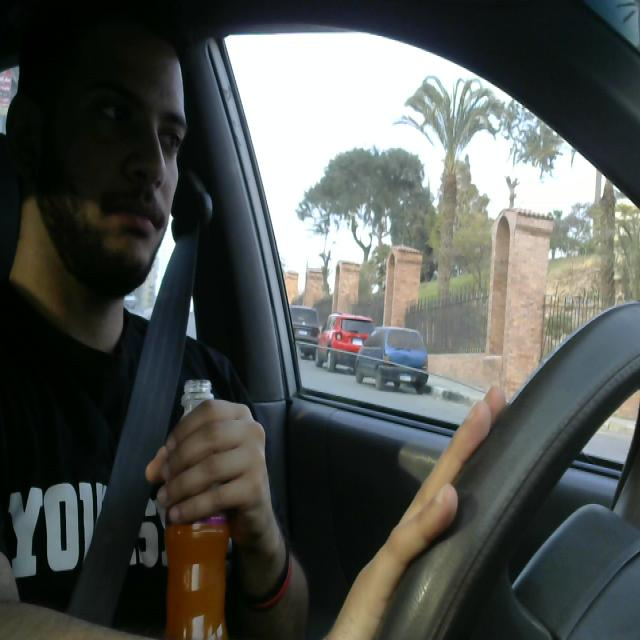drinking: (170, 379, 242, 640)
